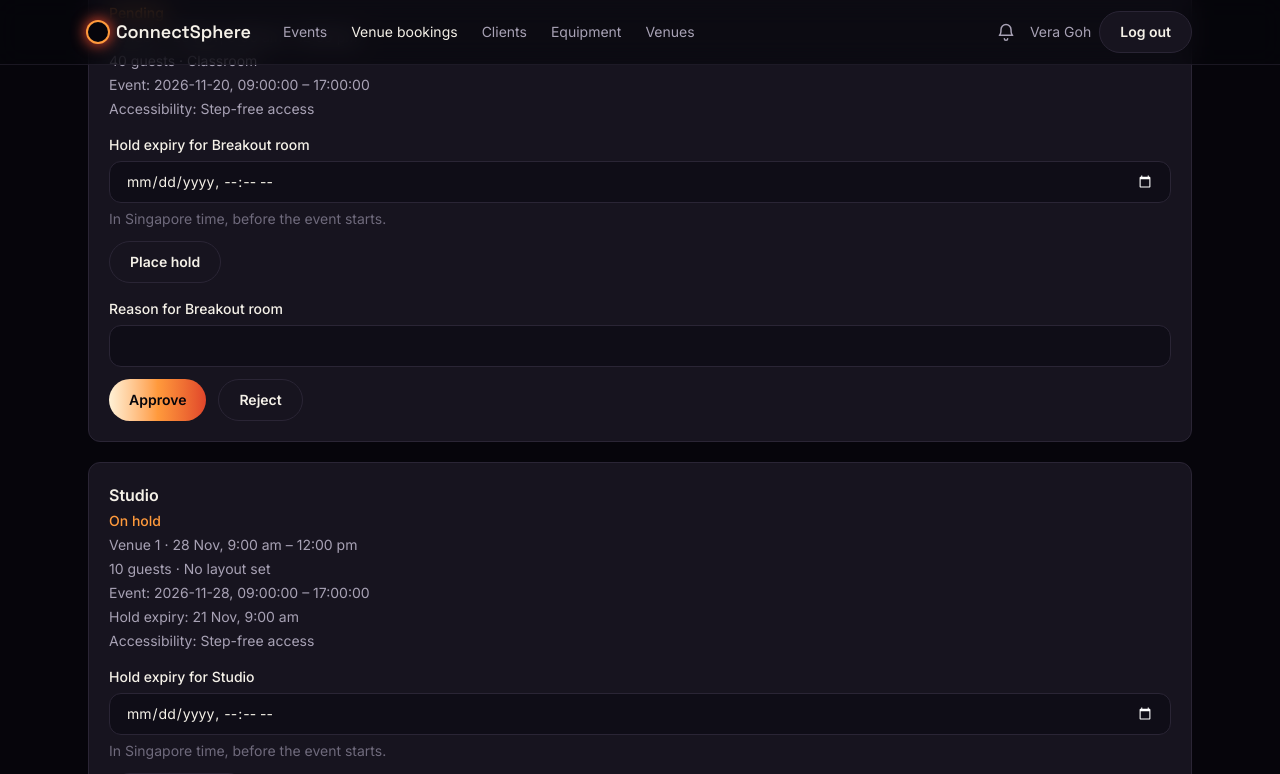
Test case: SCRUM-43 the venue booking decisions screen › shows the backend field error when a rejection has no reason
(page scrolled)
What coordinates should you click on to do the following:
click the button "Reject"
I would click on:
 (261, 400)
Its box is 218,379 -> 303,421.
(page scrolled)
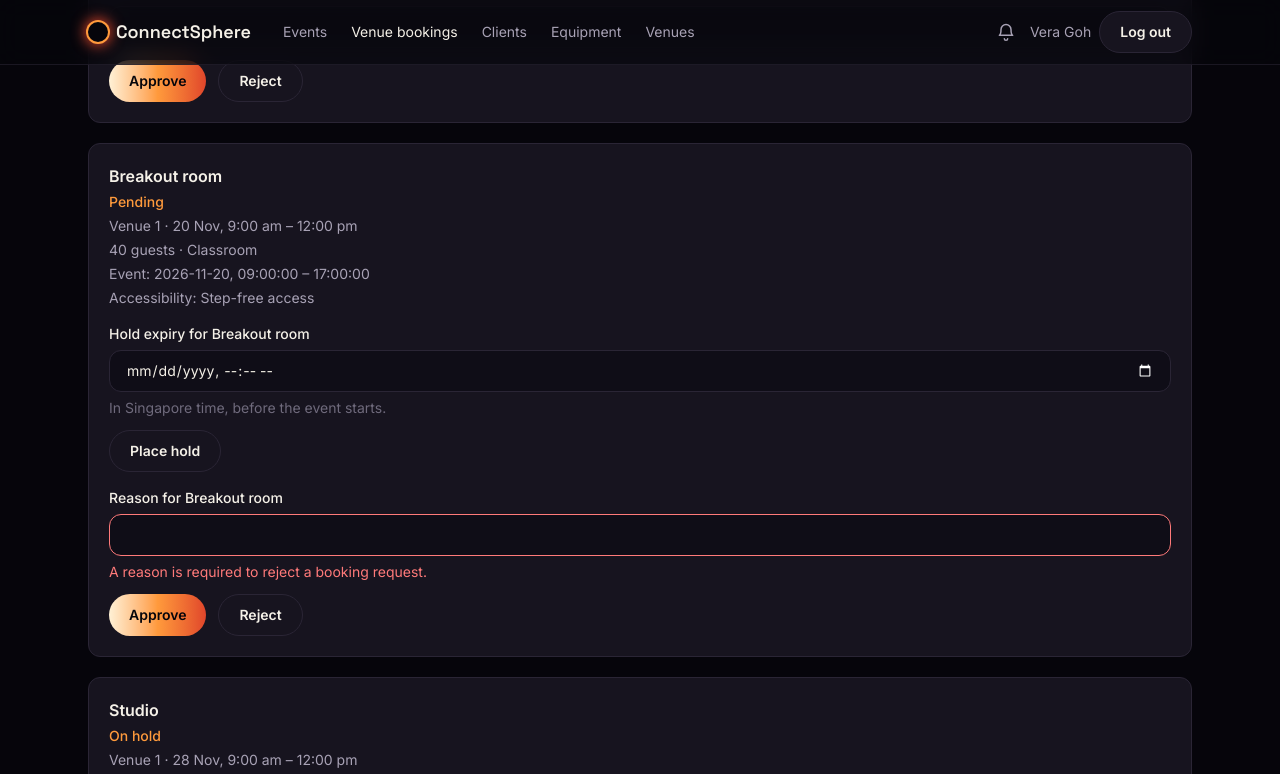
Expected: the element "Breakout room" is shown, 88,143 -> 1192,657
Expected: the list item "A reason is required to reject a booking request." is shown, 109,563 -> 427,580
